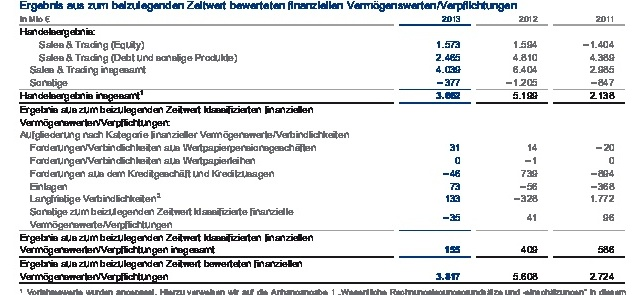table: (0, 0, 638, 295)
